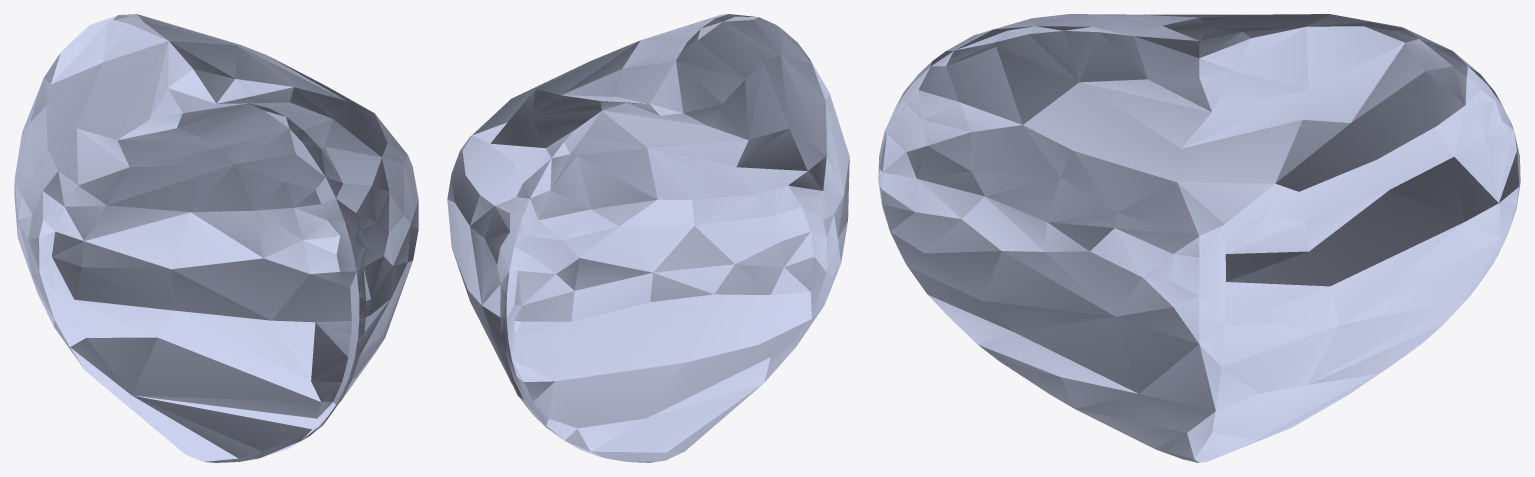
Rendered from Heart.FBX.
3 views of the same model, side by side, from view 1: azimuth 30°, elevation 25°; view 2: azimuth 150°, elevation 25°; view 3: azimuth 270°, elevation 25° (orthographic). The views are drawn at different scales.
Parts seen in each view (by area): view 1: Heart; view 2: Heart; view 3: Heart.
Part boxes in pixels (box(x1,y1,x2,y2)): Heart: box(14, 14, 418, 462); Heart: box(447, 14, 849, 462); Heart: box(878, 14, 1520, 462).
Size of the model in its own units: 3.55 by 3.71 by 4.95.
